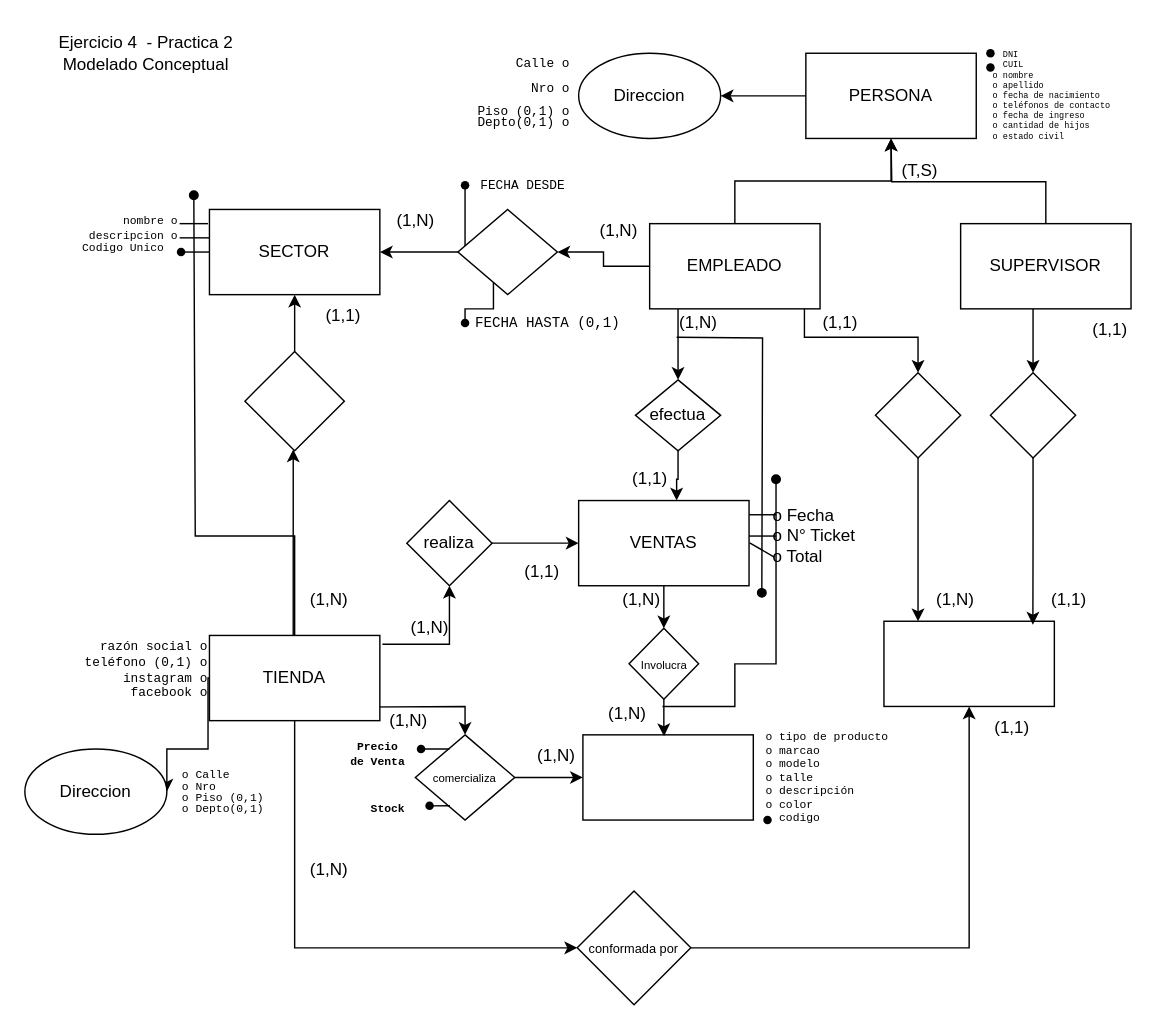
This 1172x1030 diagram has some shape labels left out. Each missing label, with the centre of its shape:
"GRUPO DE EMPLEADOS" belongs at point (968, 663).
"pertenece" belongs at point (507, 251).
"pertenece a" belongs at point (917, 414).
"PRODUCTO" belongs at point (667, 776).
"se divide por" belongs at point (294, 400).
"supervisa" belongs at point (1032, 414).
